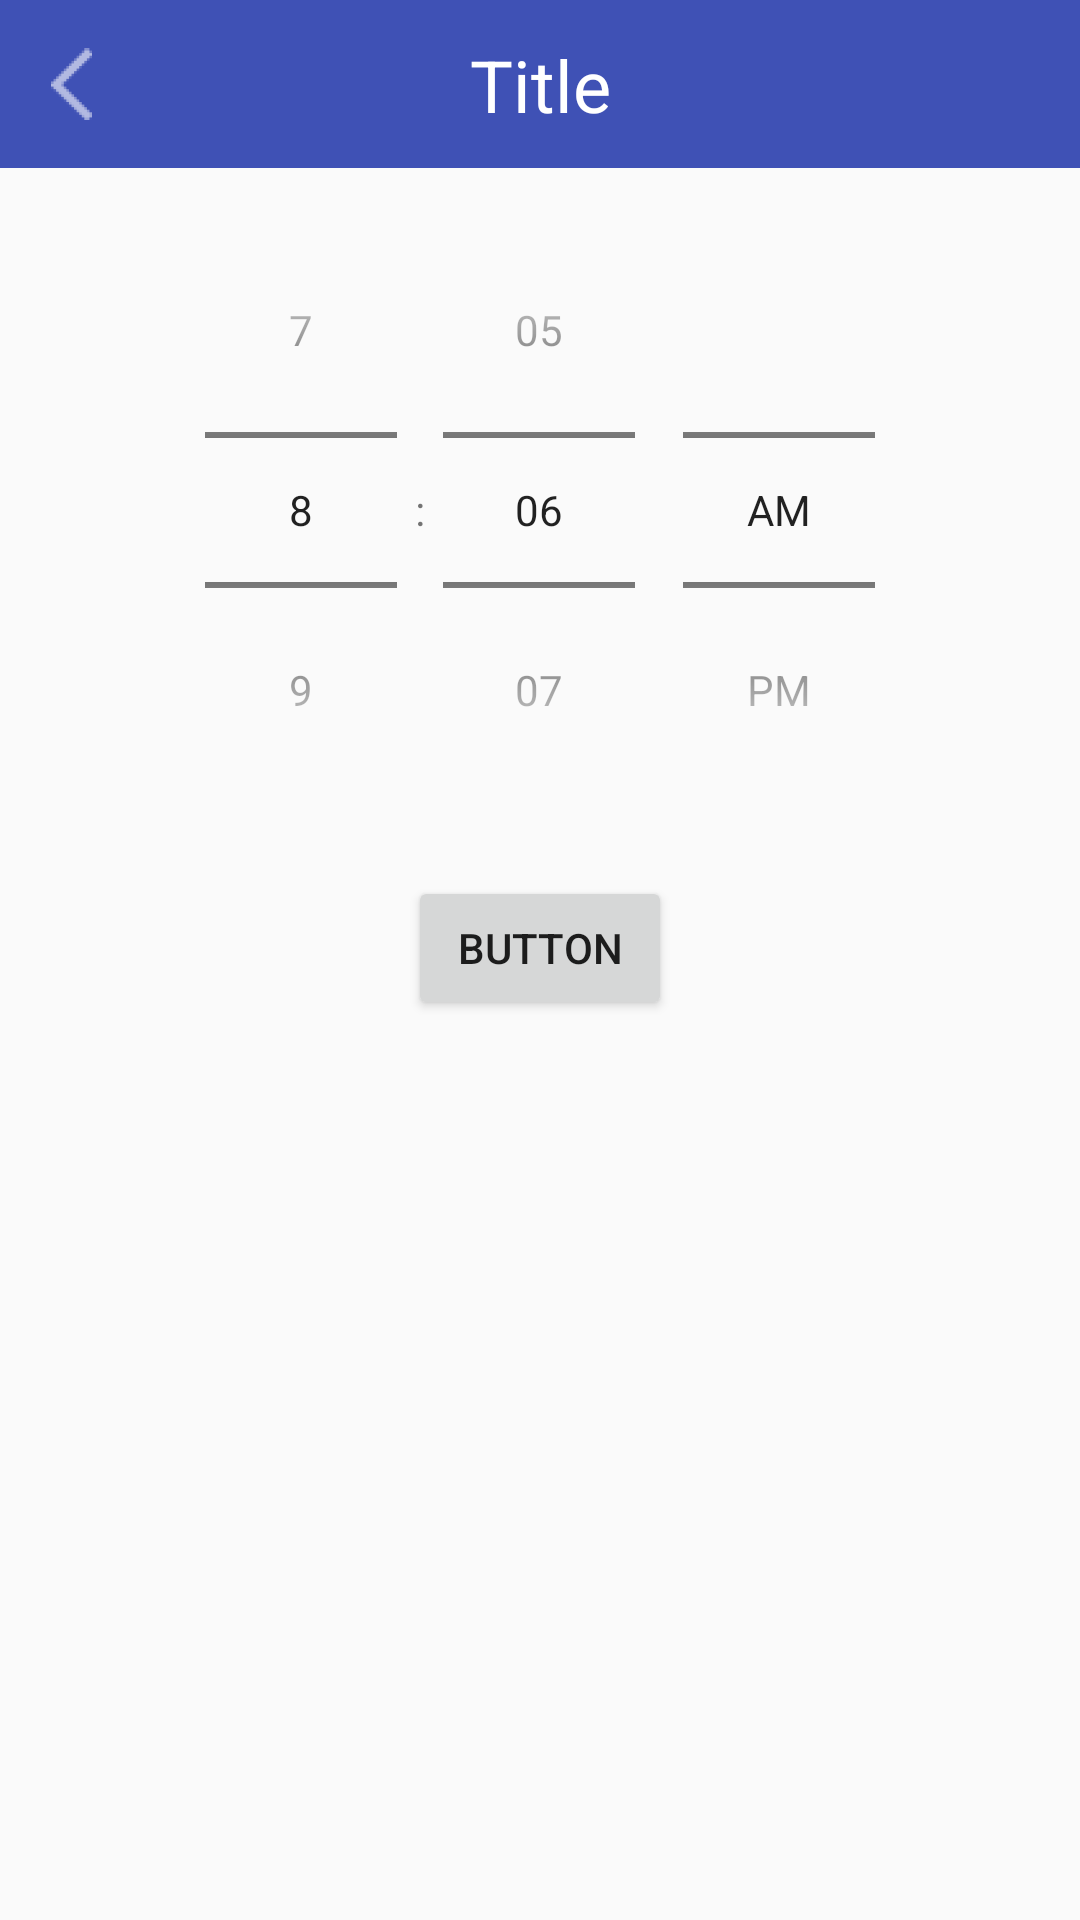

Icons on this 1080px x 1920px Android screen, each with its box as (x1, y1, x2, y2):
back: (51, 48, 92, 120)
